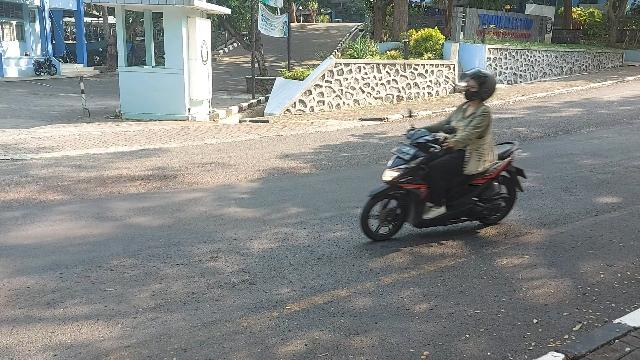helm: (462, 70, 497, 103)
motor: (361, 111, 529, 244)
